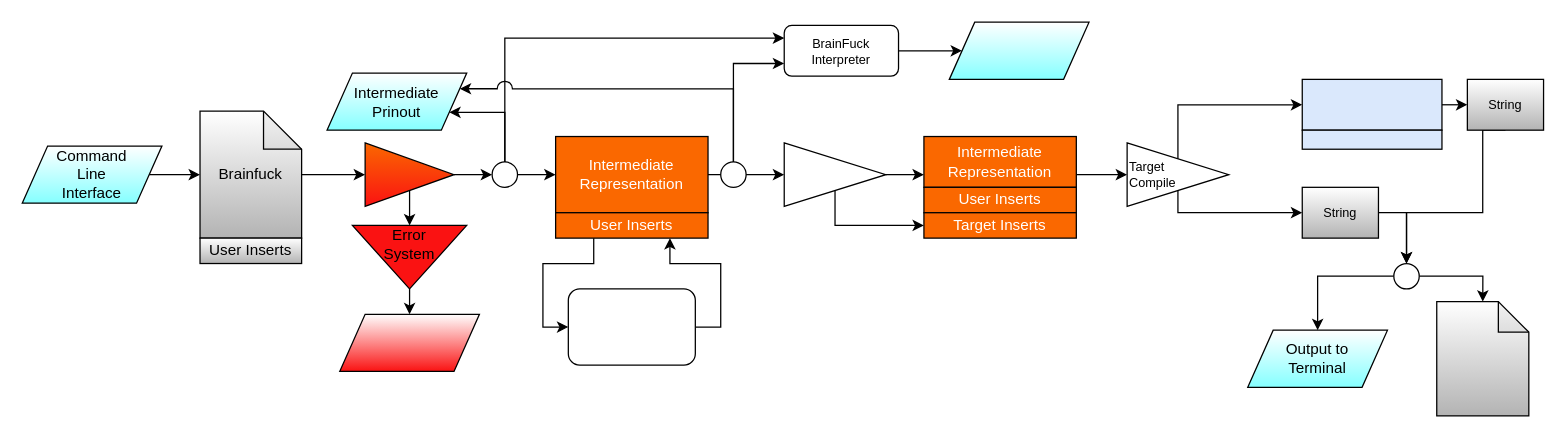
The diagram is 1566 pixels wide and 438 high, and some of its shapes have lost their labels. Each missing label, with the centre of its shape:
"ARM Inserts" goes at (1371,139).
"ARM Representation" goes at (1371,104).
"Error Printout" goes at (408,342).
"Output File" goes at (1482,358).
"Parser" goes at (409,174).
"Pattern Match Peephole Optimisations" goes at (631,326).
"Target Optimisations" goes at (834,174).
"Terminal Interaction" goes at (1018,50).
